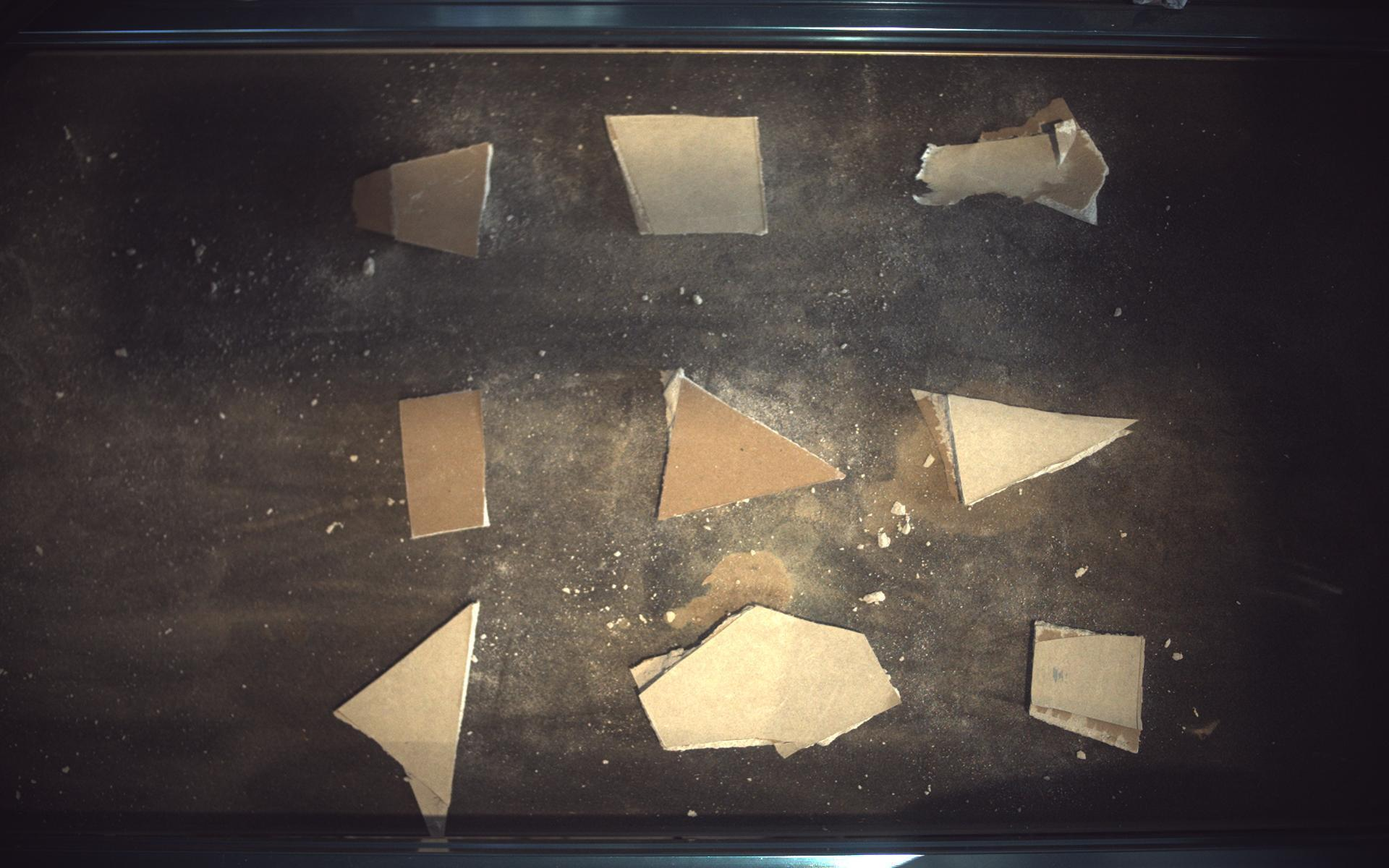gypsum_board: (632, 605, 901, 759), (334, 603, 480, 837), (659, 369, 846, 520), (914, 389, 1139, 507), (916, 97, 1110, 224), (606, 112, 769, 234), (352, 142, 493, 257), (1032, 622, 1147, 754), (399, 390, 490, 540)
